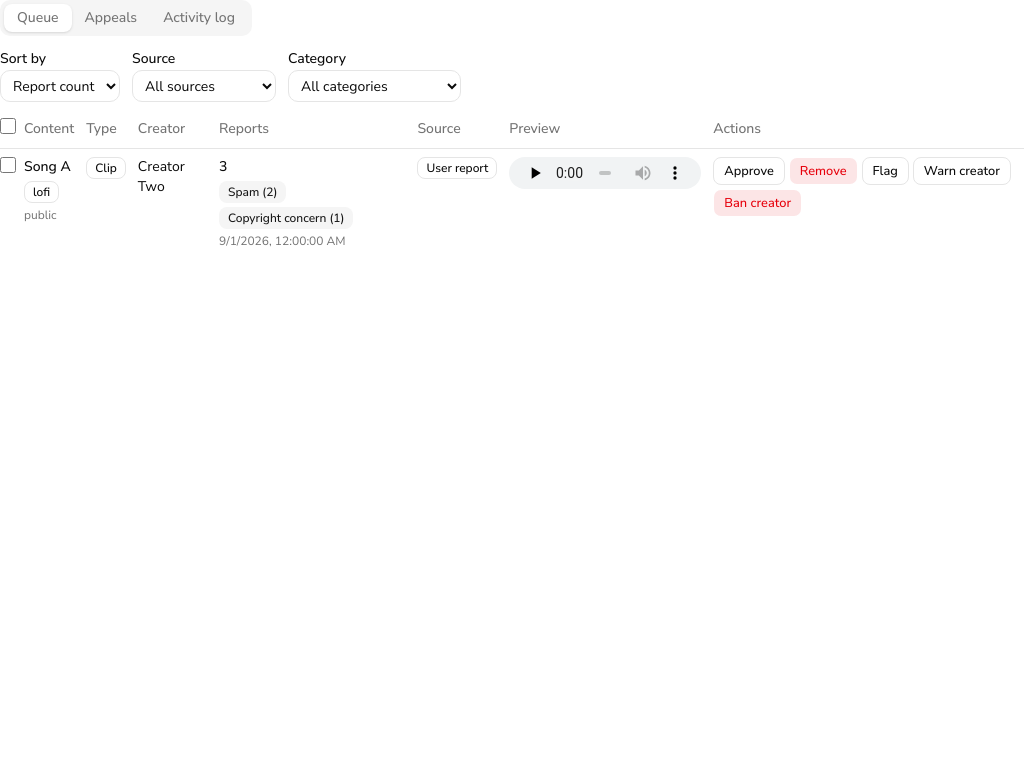
ModerationDashboard › sends nothing when a destructive action is cancelled
Click the button "Ban creator" at (758, 203), box [713,189,802,217]
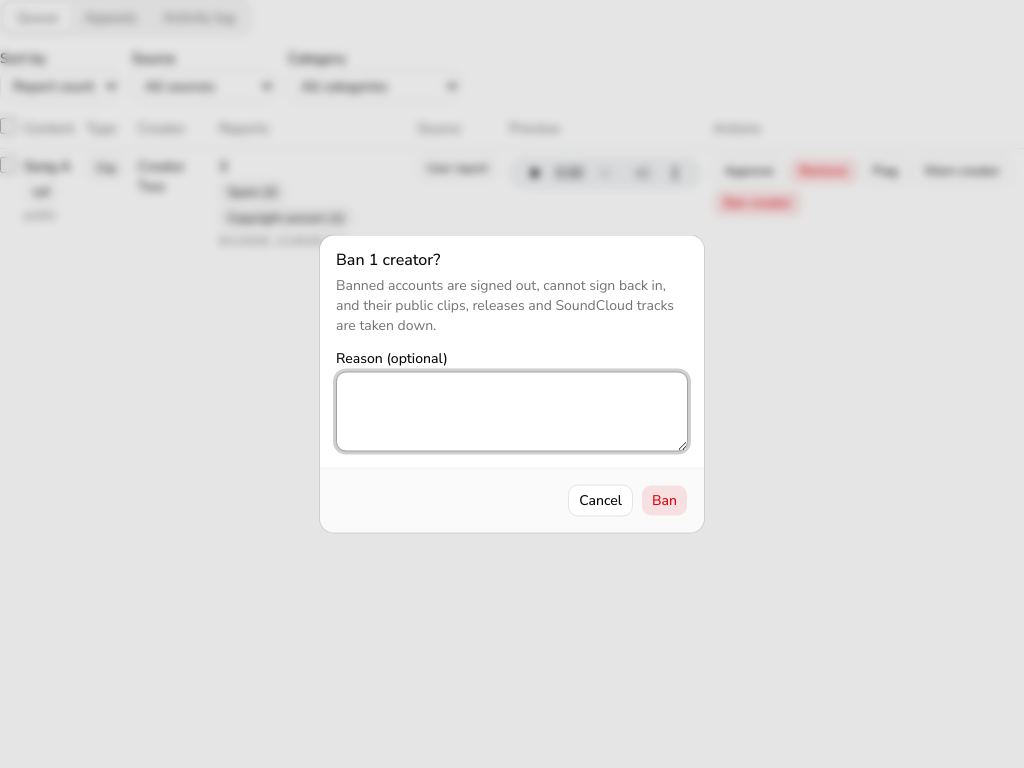
Click the button "Cancel" at (601, 500), box [568,484,633,516]
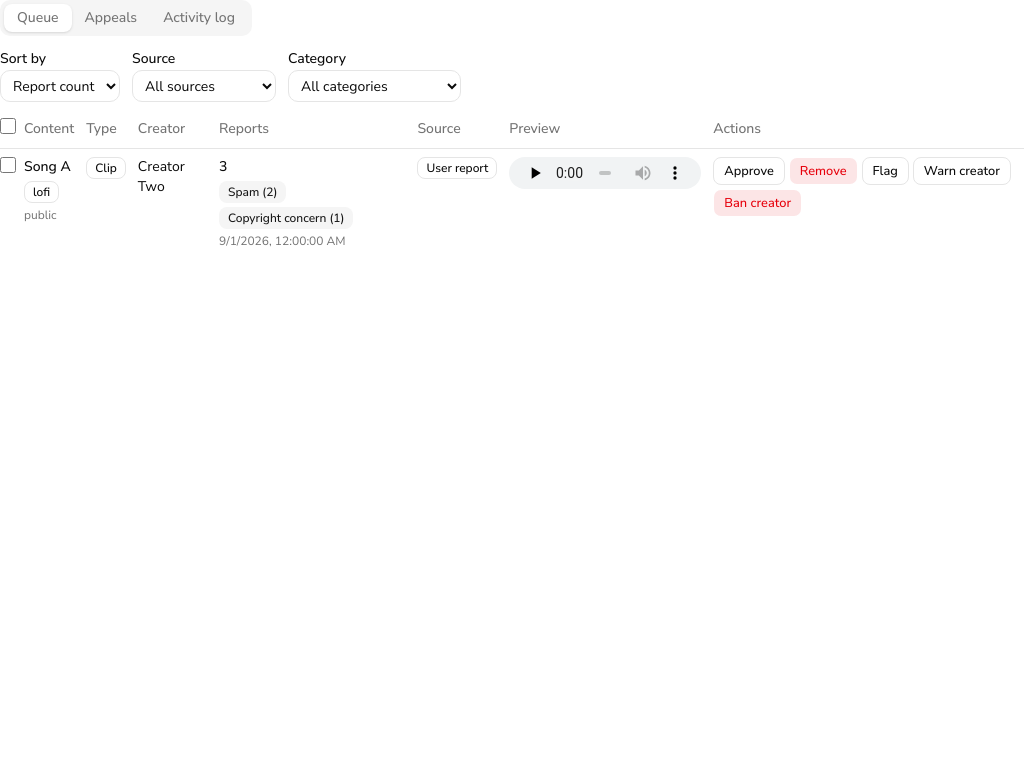
Check: the dialog is gone
